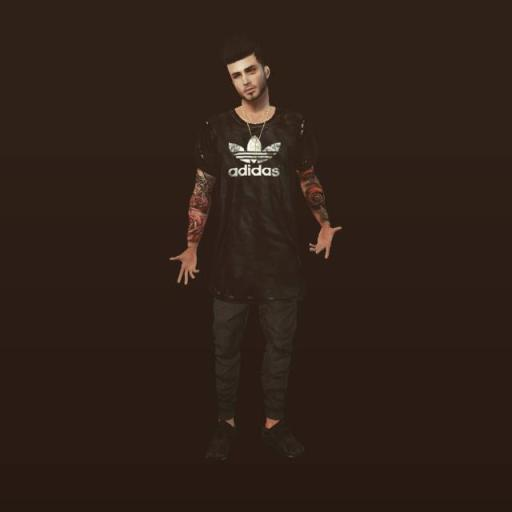Adidas: (223, 134, 285, 180)
